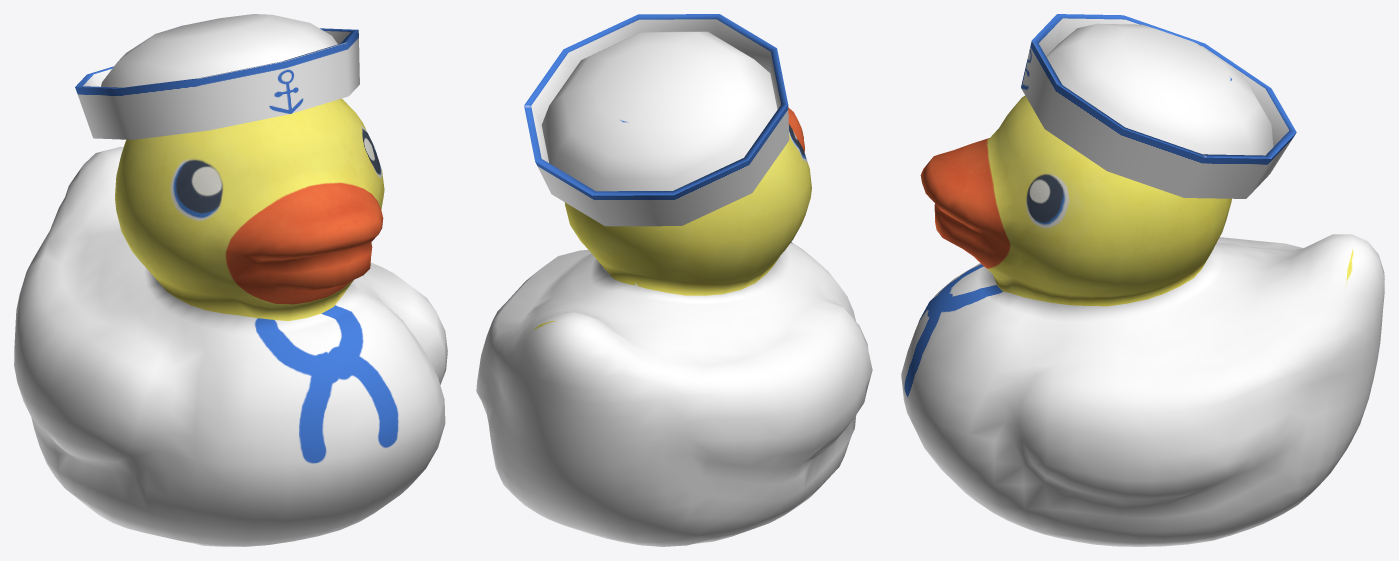
The model's file is Sailor_Ducky.fbx.
The picture shows the model from 3 angles, left to right: view 1: azimuth 30°, elevation 25°; view 2: azimuth 150°, elevation 25°; view 3: azimuth 270°, elevation 25°; orthographic projection. The views are drawn at different scales.
Visible parts, largest first — view 1: Ducky_sailorguy, sailor_hat; view 2: Ducky_sailorguy, sailor_hat; view 3: Ducky_sailorguy, sailor_hat.
Boxes of the visible parts, x1,y1,x2,y2 form: Ducky_sailorguy: [14, 98, 447, 546]; sailor_hat: [75, 14, 359, 139]; Ducky_sailorguy: [476, 107, 872, 546]; sailor_hat: [524, 14, 789, 226]; Ducky_sailorguy: [901, 95, 1384, 546]; sailor_hat: [1021, 14, 1296, 198].
Size of the model in its own units: 62.11 by 75.76 by 73.49.
2 materials, 2 textured.
